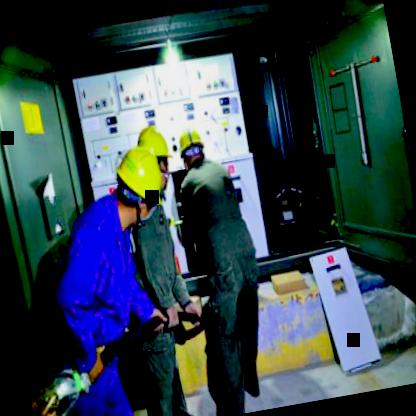helmet: (111, 142, 168, 218), (134, 123, 174, 192), (172, 124, 208, 170)
